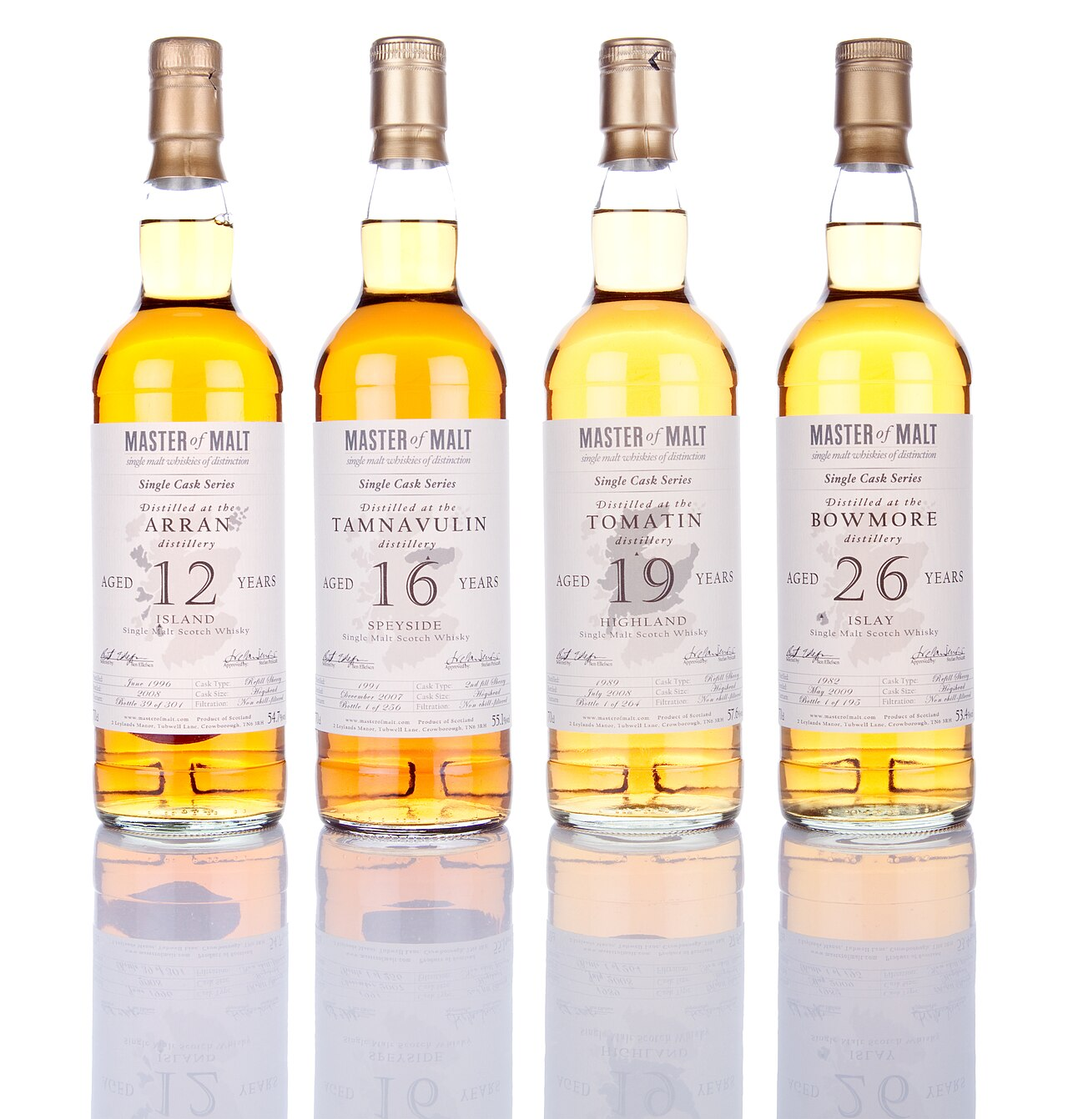unknown_bottle: (540, 35, 745, 1110), (311, 33, 514, 1112), (773, 37, 975, 1112), (90, 36, 289, 1114), (314, 32, 506, 423), (544, 37, 737, 420), (93, 36, 282, 425), (778, 38, 971, 418)
